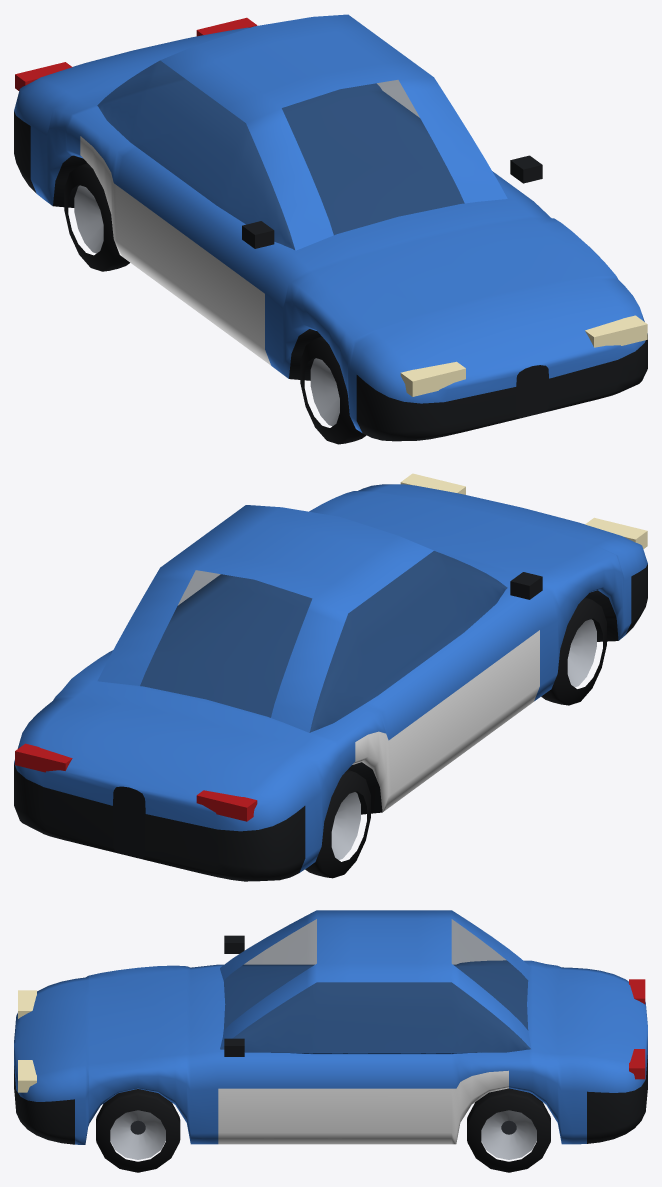
Rendered from mobile.glb.
3 renders of one model, top to bottom at view 1: azimuth 30°, elevation 25°; view 2: azimuth 150°, elevation 25°; view 3: azimuth 270°, elevation 25°, orthographic. The views are drawn at different scales.
Visible parts, largest first — view 1: body, glass, tyre_rr, tyre_fr, light_head_r, rim_fr, rim_rr, light_head_l, light_brake_r; view 2: body, glass, tyre_rr, tyre_fr, rim_rr, rim_fr, light_brake_r, light_brake_l, light_head_r, light_head_l; view 3: body, glass, tyre_rl, tyre_fl, rim_rl, rim_fl, light_head_l, light_brake_l, light_head_r.
Part boxes in pixels (left/top/right/bottom): body: left=14, top=14, right=647, bottom=441; glass: left=97, top=60, right=464, bottom=249; tyre_rr: left=64, top=163, right=129, bottom=271; tyre_fr: left=300, top=336, right=366, bottom=444; light_head_r: left=400, top=361, right=465, bottom=396; rim_fr: left=310, top=358, right=339, bottom=426; rim_rr: left=74, top=185, right=103, bottom=253; light_head_l: left=585, top=315, right=647, bottom=347; light_brake_r: left=15, top=62, right=72, bottom=90; body: left=14, top=484, right=647, bottom=881; glass: left=140, top=551, right=507, bottom=732; tyre_rr: left=305, top=770, right=370, bottom=878; tyre_fr: left=541, top=597, right=606, bottom=705; rim_rr: left=331, top=792, right=360, bottom=859; rim_fr: left=567, top=619, right=596, bottom=687; light_brake_r: left=196, top=790, right=257, bottom=821; light_brake_l: left=15, top=743, right=72, bottom=772; light_head_r: left=585, top=517, right=647, bottom=548; light_head_l: left=400, top=473, right=465, bottom=494; body: left=14, top=910, right=647, bottom=1144; glass: left=220, top=919, right=530, bottom=1052; tyre_rl: left=467, top=1088, right=550, bottom=1172; tyre_fl: left=96, top=1089, right=180, bottom=1172; rim_rl: left=481, top=1110, right=536, bottom=1159; rim_fl: left=110, top=1110, right=165, bottom=1159; light_head_l: left=18, top=1060, right=36, bottom=1092; light_brake_l: left=629, top=1049, right=645, bottom=1079; light_head_r: left=18, top=990, right=36, bottom=1018.
Size of what is drawn, in the model's own units: 1.93 by 1.53 by 4.7.
